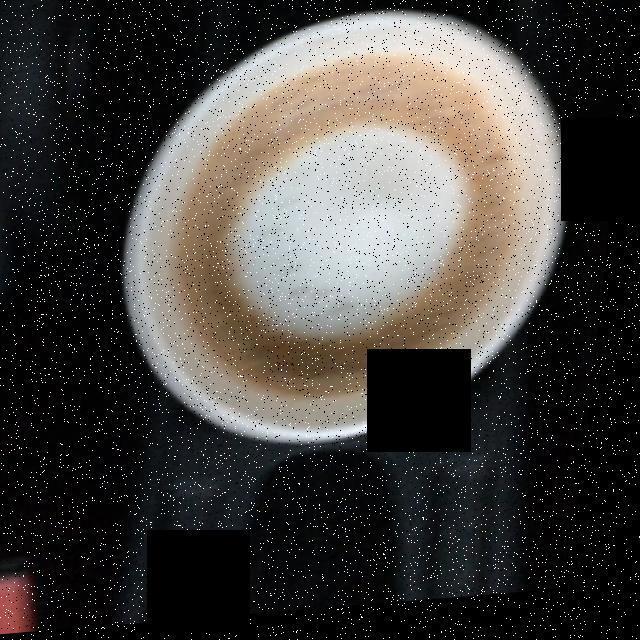white-coffee-with-caffeine: (167, 63, 539, 411)
